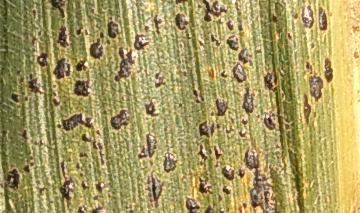tarspot: (242, 146, 278, 213), (57, 157, 78, 209), (113, 45, 139, 84), (61, 110, 96, 133), (143, 173, 166, 208), (201, 1, 230, 23), (51, 56, 73, 81), (109, 108, 132, 131), (240, 85, 256, 118), (140, 96, 162, 119), (307, 74, 324, 103), (300, 1, 316, 30), (5, 166, 22, 192), (300, 92, 313, 126), (261, 71, 280, 94), (55, 24, 72, 49), (72, 77, 92, 98), (315, 2, 329, 32), (26, 77, 48, 96), (47, 1, 69, 20), (143, 132, 159, 158), (88, 38, 106, 61), (162, 150, 179, 174), (132, 32, 152, 52), (197, 119, 217, 139), (196, 175, 215, 196), (173, 10, 191, 32), (231, 61, 248, 84), (322, 56, 335, 84), (262, 111, 278, 133), (184, 193, 201, 213), (106, 19, 122, 40), (214, 97, 230, 118), (74, 54, 90, 73), (151, 14, 165, 35), (220, 164, 236, 182), (237, 46, 252, 65), (153, 71, 168, 89), (35, 51, 50, 68), (226, 34, 240, 52), (196, 143, 209, 162), (94, 179, 108, 195), (211, 145, 224, 160), (235, 165, 248, 180), (136, 145, 148, 160), (210, 33, 222, 48), (96, 151, 107, 167), (220, 183, 233, 196), (18, 127, 30, 141), (91, 140, 106, 151), (237, 126, 249, 139), (305, 60, 315, 75), (80, 132, 92, 144), (89, 205, 106, 213), (80, 179, 91, 191), (77, 202, 89, 213), (10, 91, 20, 104), (226, 19, 236, 32), (203, 202, 214, 213), (38, 184, 47, 197), (51, 97, 62, 107), (92, 193, 102, 204), (197, 38, 207, 49), (78, 151, 90, 160), (179, 68, 189, 78), (22, 164, 33, 173), (220, 69, 229, 80), (31, 8, 39, 20), (271, 13, 279, 25), (29, 35, 38, 45), (74, 27, 83, 37), (225, 126, 235, 135), (253, 47, 263, 56), (191, 88, 199, 99), (236, 22, 244, 33), (74, 161, 83, 170), (147, 158, 156, 167), (213, 160, 222, 169), (95, 127, 103, 137), (119, 94, 127, 104), (241, 201, 249, 211), (1, 129, 9, 138), (47, 198, 56, 206), (143, 24, 151, 33), (185, 32, 194, 40), (248, 59, 256, 68), (99, 30, 106, 40), (286, 31, 293, 41), (310, 41, 317, 51), (55, 122, 63, 130), (101, 108, 109, 116), (217, 17, 225, 25), (241, 118, 249, 126), (292, 12, 300, 20), (84, 28, 91, 37), (87, 162, 94, 171), (207, 147, 214, 156), (90, 6, 96, 16), (312, 109, 318, 119), (39, 139, 46, 147), (47, 102, 55, 109), (51, 82, 58, 90), (105, 38, 112, 46), (177, 42, 184, 50), (177, 101, 184, 109), (209, 110, 216, 118), (215, 122, 222, 130), (198, 160, 206, 167), (217, 196, 225, 203), (230, 117, 237, 125), (15, 68, 22, 75), (199, 94, 206, 101), (79, 171, 85, 179), (197, 2, 203, 10), (218, 207, 226, 213), (20, 89, 26, 96), (24, 95, 30, 102), (29, 161, 36, 167), (28, 72, 34, 79), (52, 91, 58, 98), (37, 30, 43, 37), (67, 157, 73, 164), (195, 98, 201, 105), (211, 201, 218, 207), (256, 113, 262, 120), (1, 180, 5, 190), (33, 140, 39, 146), (29, 155, 35, 161), (31, 46, 37, 52), (174, 1, 183, 5), (118, 36, 123, 42), (108, 16, 114, 21), (182, 1, 189, 5), (7, 72, 12, 77), (226, 207, 231, 212), (257, 88, 262, 93), (20, 142, 26, 146), (99, 3, 105, 7)
